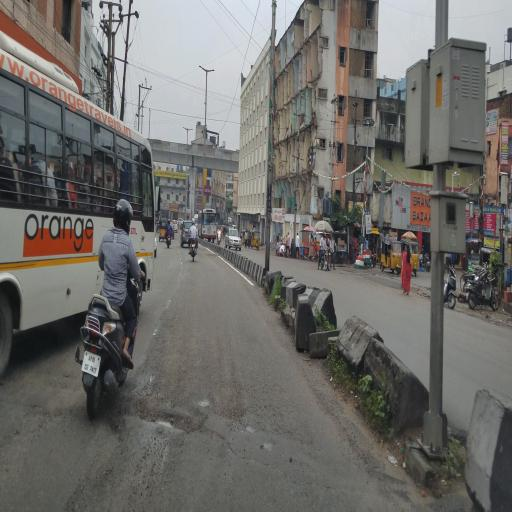street_light_0: (188, 119, 198, 137), (178, 122, 188, 140), (206, 63, 215, 81), (198, 60, 207, 78)
